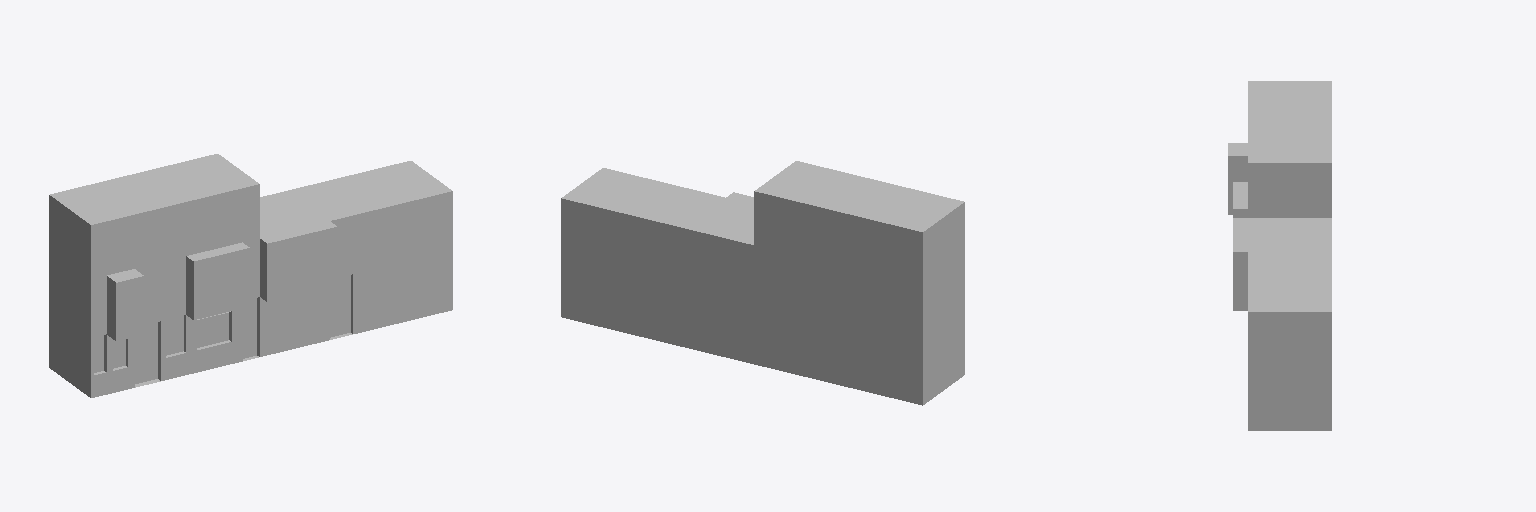
The model's file is modeling.obj.
3 renders of one model, left to right at view 1: azimuth 30°, elevation 25°; view 2: azimuth 150°, elevation 25°; view 3: azimuth 270°, elevation 25°, orthographic.
Parts seen in each view (by area): view 1: Cube; view 2: Cube; view 3: Cube.
Part boxes in pixels (left/top/right/bottom): Cube: left=49, top=154, right=452, bottom=397; Cube: left=561, top=161, right=964, bottom=405; Cube: left=1228, top=81, right=1331, bottom=430.
Bounding box in the file's own units: 35.1 × 16.06 × 8.68.